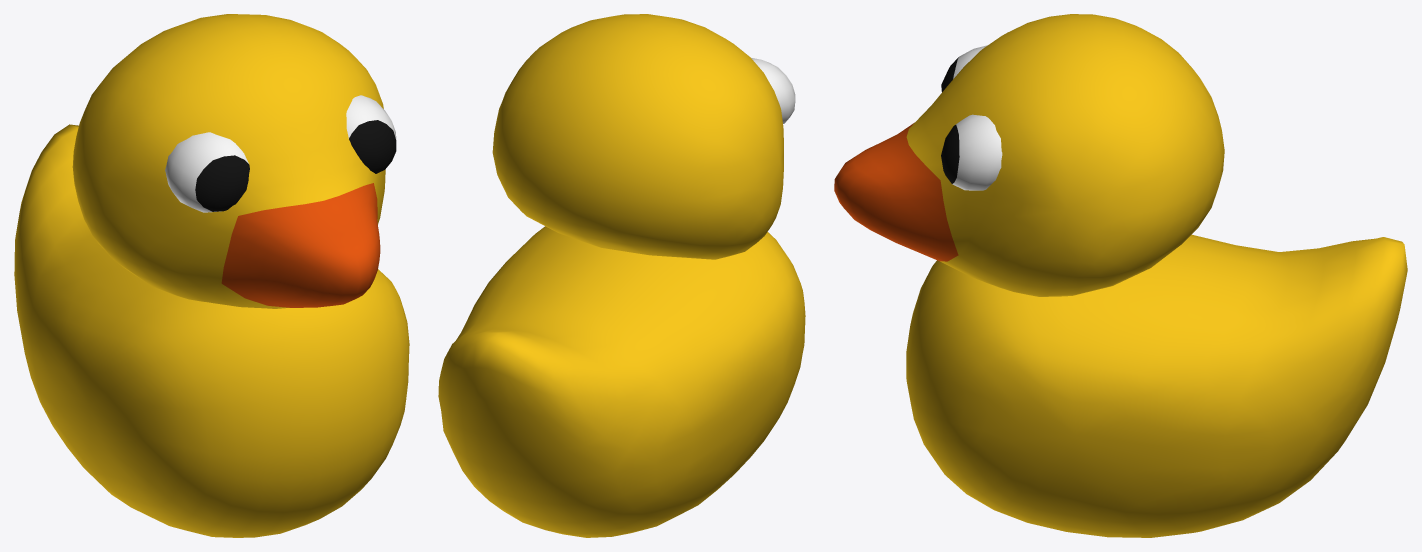
Rendered from Player1.fbx.
3 views of the same model, side by side, from view 1: azimuth 30°, elevation 25°; view 2: azimuth 150°, elevation 25°; view 3: azimuth 270°, elevation 25° (orthographic). The views are drawn at different scales.
Visible parts, largest first — view 1: Player1; view 2: Player1; view 3: Player1.
Part boxes in pixels (x1,y1,x2,y2): Player1: (14,14,409,537); Player1: (438,14,805,537); Player1: (834,14,1407,537).
Size of the model in its own units: 16.99 by 29.07 by 27.44.
